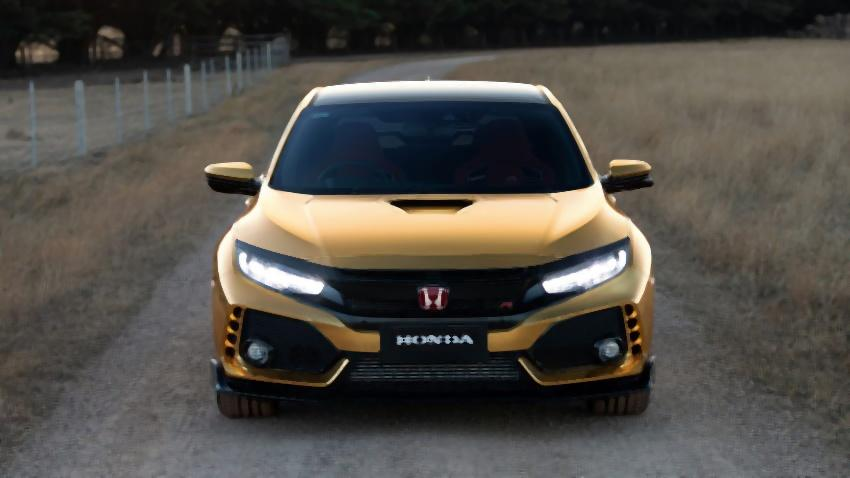Car hood: (234, 182, 642, 277)
Front bumper: (206, 271, 666, 399)
Headlight - -L-: (535, 233, 633, 303)
Headlight - -R-: (232, 238, 346, 309)
Side mirror - -L-: (596, 155, 656, 197)
Side mirror - -R-: (201, 162, 264, 199)
